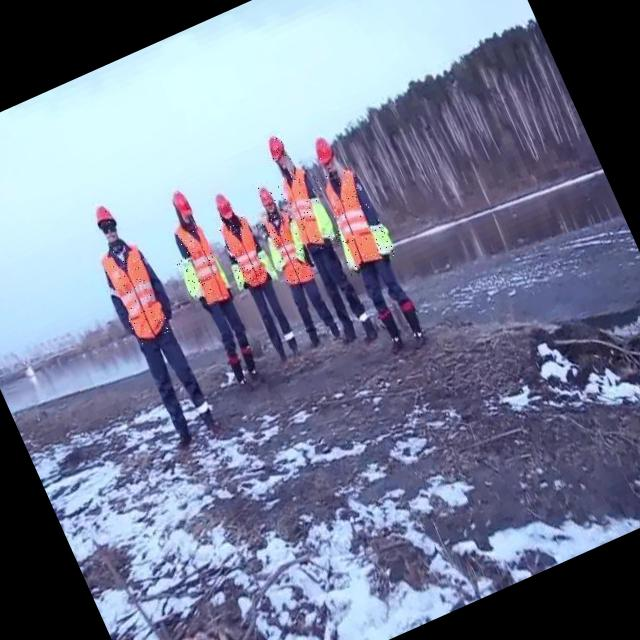hard_hat: (96, 238, 174, 346), (210, 186, 240, 222), (264, 130, 292, 166), (167, 187, 195, 221), (90, 198, 118, 230), (310, 130, 337, 163), (256, 183, 278, 207)
safety_vest: (316, 164, 390, 271), (274, 166, 338, 254), (175, 222, 232, 308), (216, 214, 274, 294), (260, 208, 316, 286), (302, 184, 338, 243), (176, 254, 208, 302), (283, 218, 313, 266), (366, 218, 396, 262), (333, 230, 361, 276), (264, 238, 288, 279), (229, 260, 250, 294), (256, 246, 277, 276)
